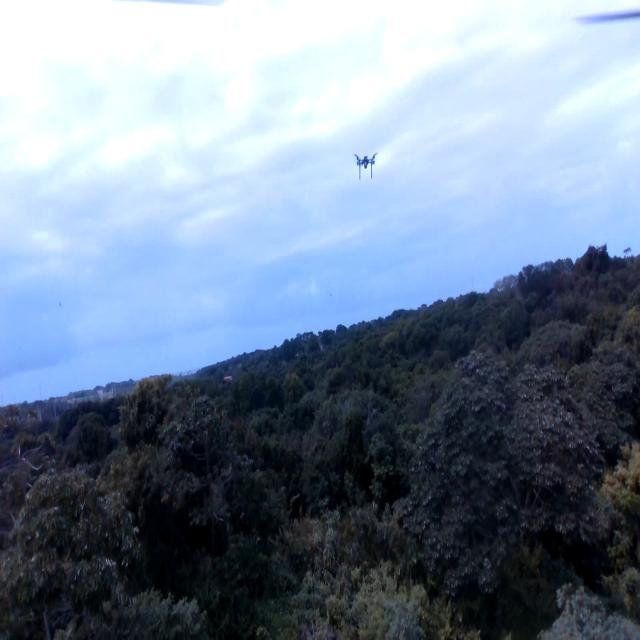-uav-: (345, 138, 384, 197)
